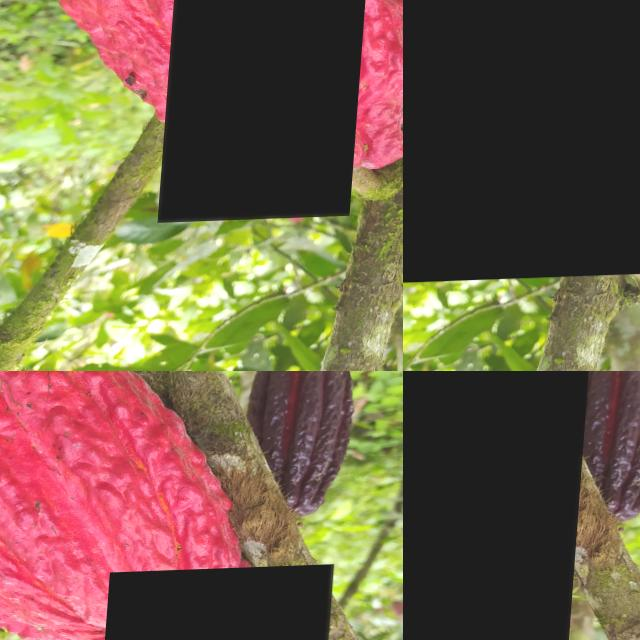Monilia: (165, 0, 381, 223)
Sana: (403, 0, 640, 286), (403, 371, 598, 640), (261, 478, 403, 640), (105, 568, 339, 640), (564, 371, 640, 530)
